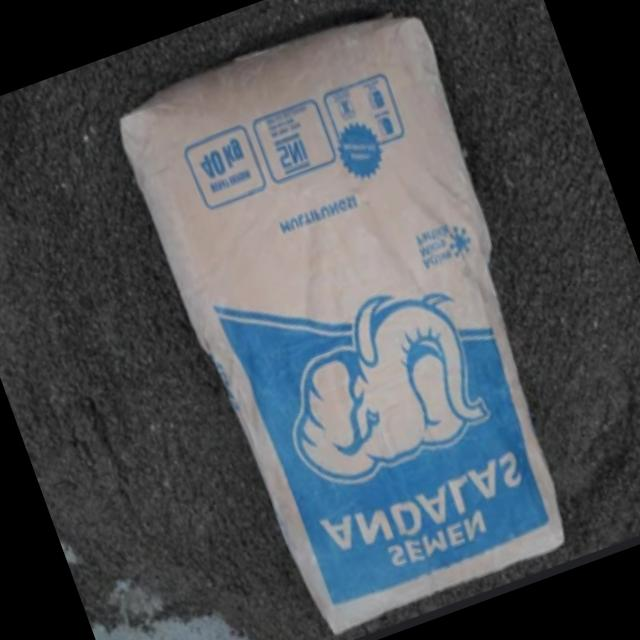KantongSemen: (105, 0, 612, 640)
